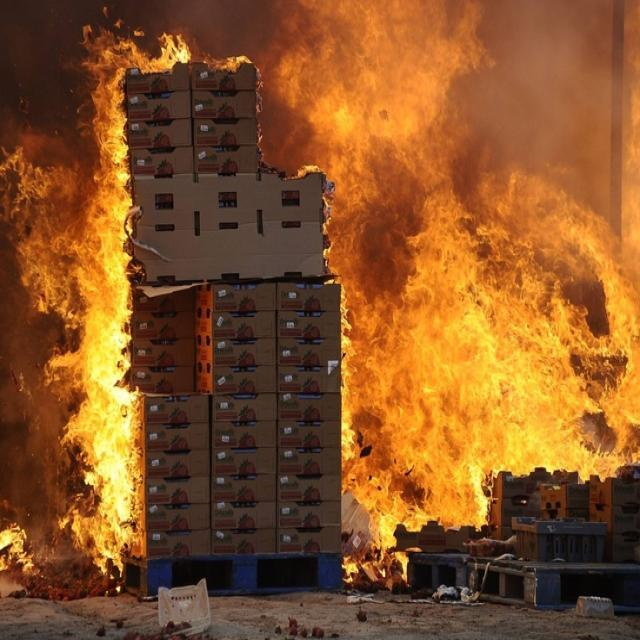Fire: (265, 0, 640, 576), (0, 0, 206, 594), (251, 72, 271, 170), (204, 48, 263, 78)
